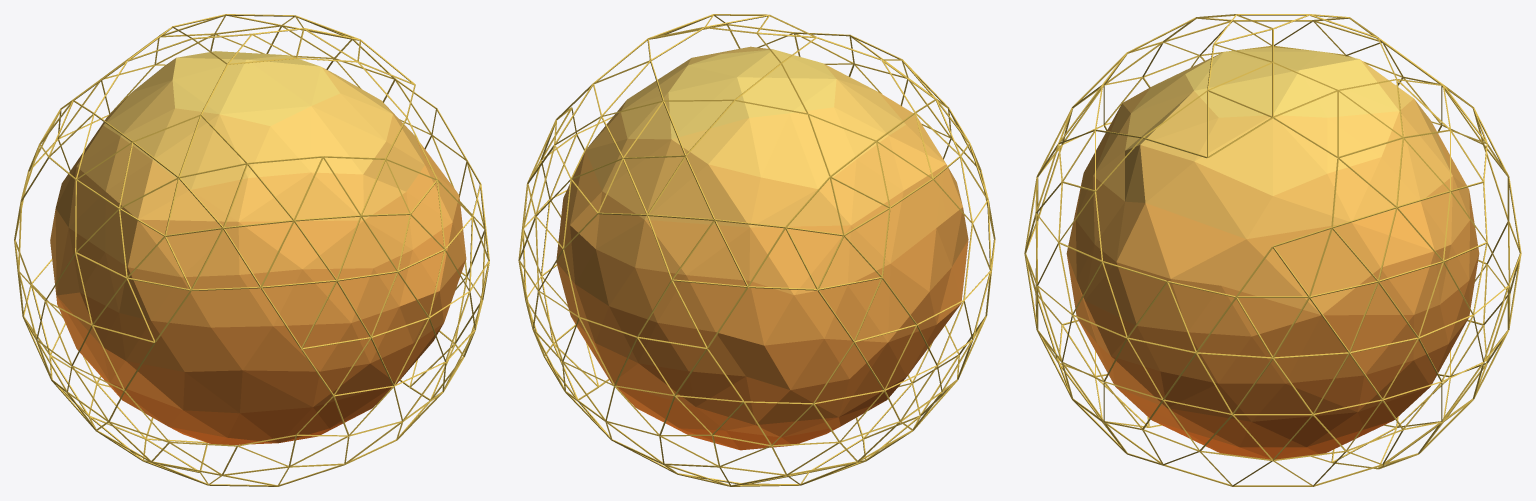
The model's file is Planet13.glb.
The picture shows the model from 3 angles, left to right: view 1: azimuth 30°, elevation 25°; view 2: azimuth 150°, elevation 25°; view 3: azimuth 270°, elevation 25°; orthographic projection. The views are drawn at different scales.
Visible parts, largest first — view 1: Planet_13; view 2: Planet_13; view 3: Planet_13.
Part boxes in pixels (left/top/right/bottom): Planet_13: left=14, top=14, right=489, bottom=486; Planet_13: left=518, top=14, right=995, bottom=486; Planet_13: left=1024, top=14, right=1521, bottom=486.
Bounding box in the file's own units: 5.62 × 5.53 × 5.62.
